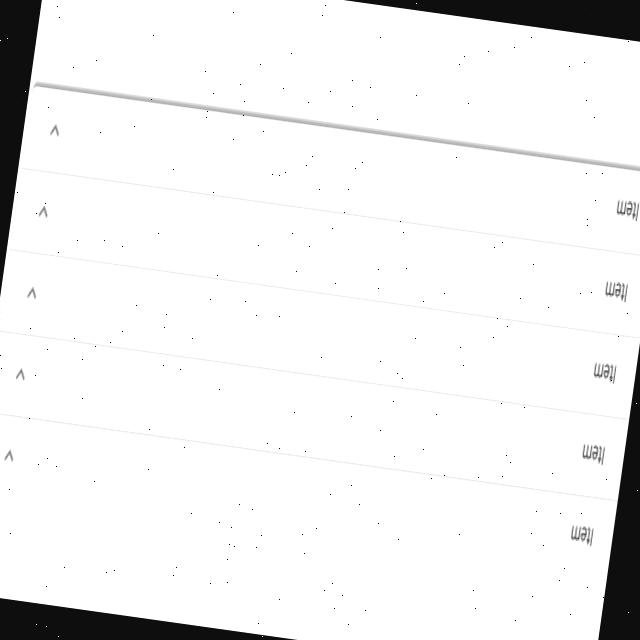VExpansionPanels: (0, 82, 640, 583)
